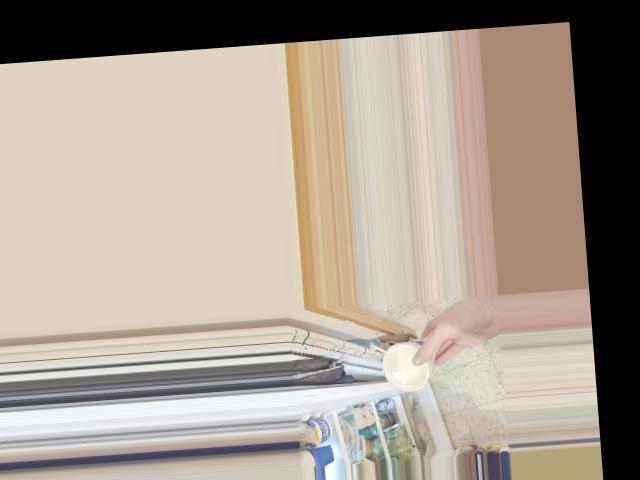cotage: (375, 334, 431, 389)
